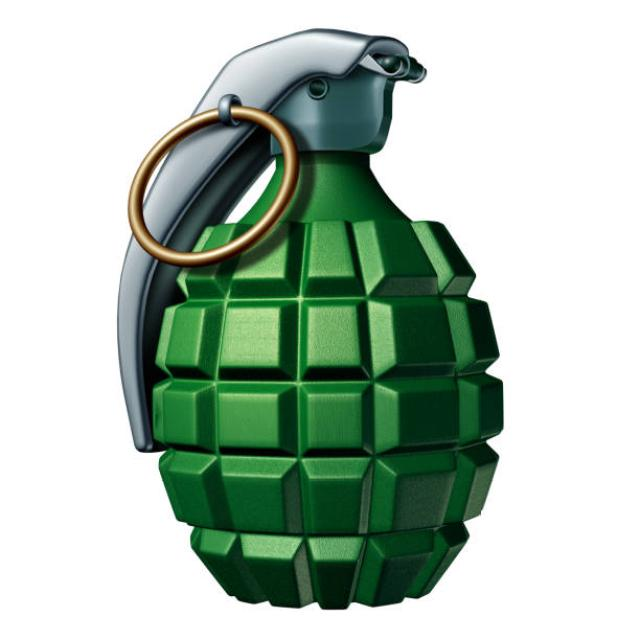grenade: (97, 21, 509, 617)
